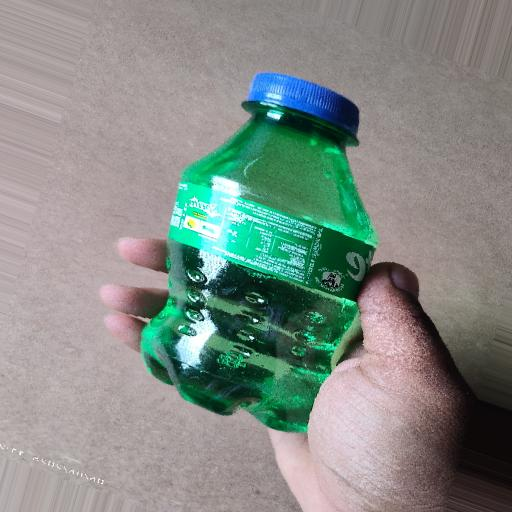Sprite: (120, 53, 445, 477)
